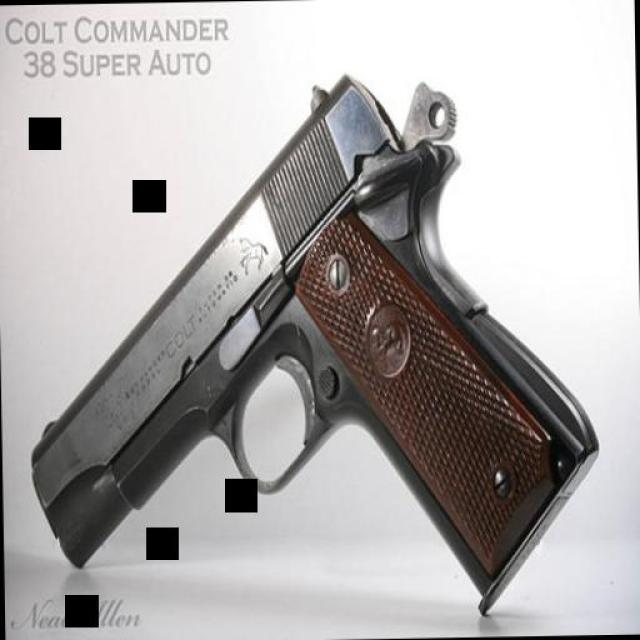gun: (21, 65, 601, 625)
